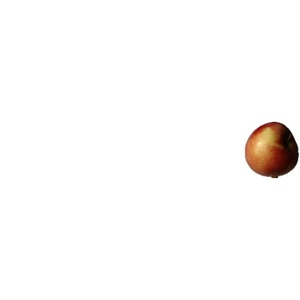maçã braeburn: (241, 117, 299, 180)
